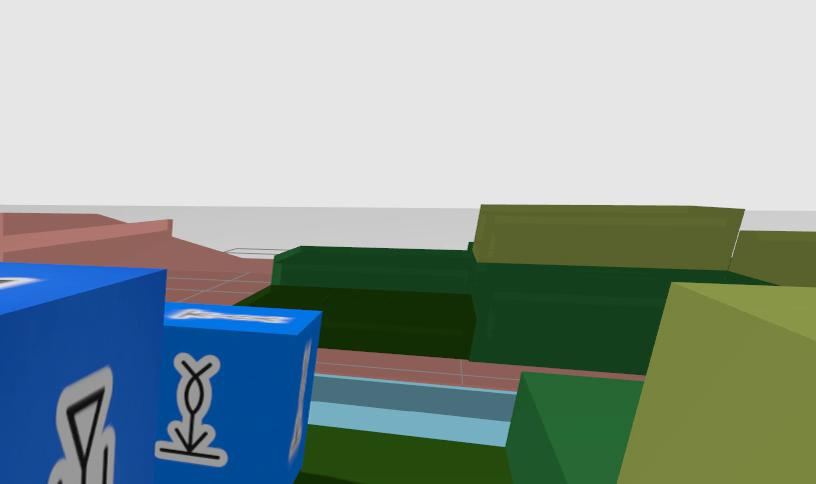KFS_REAL: (0, 263, 162, 484), (151, 304, 321, 484), (155, 353, 226, 466), (48, 367, 115, 484)
